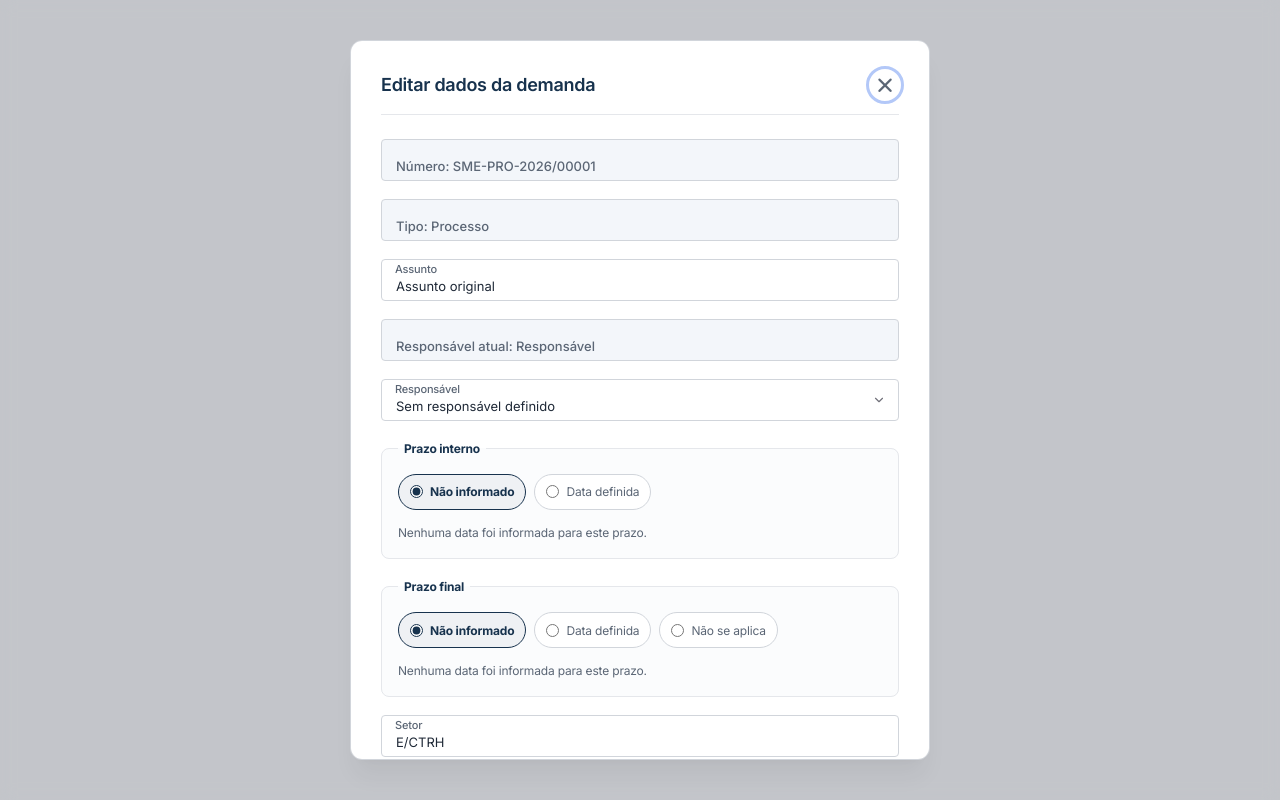
Scenario: validação de datas nos modais R4 › valida datas também na primeira adequação da edição legada
Click the radio button labelled "Data definida" in the row of "Não se aplica" at coordinates (553, 630), box [546, 624, 560, 637]
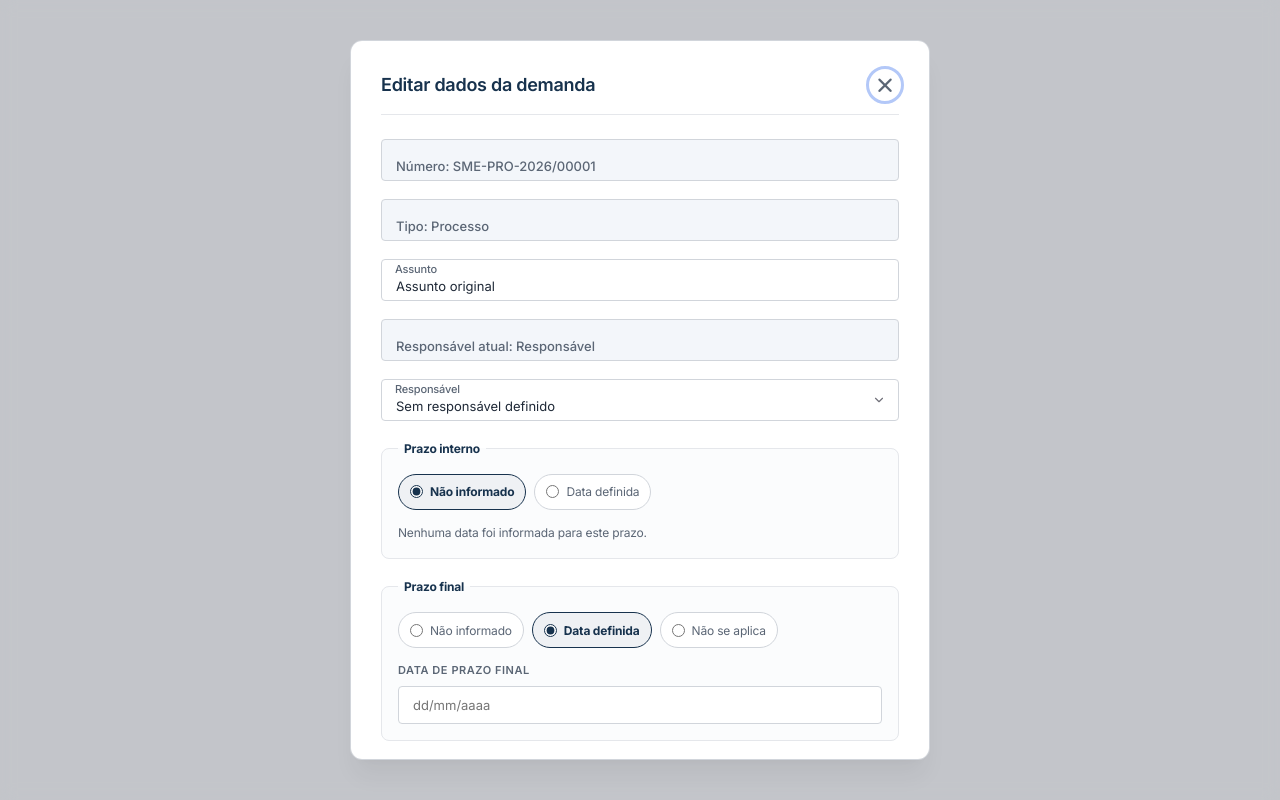
Type "31/04/2099" into the field labelled "Data de prazo final" at coordinates (640, 705), box [398, 686, 882, 724]
(page scrolled)
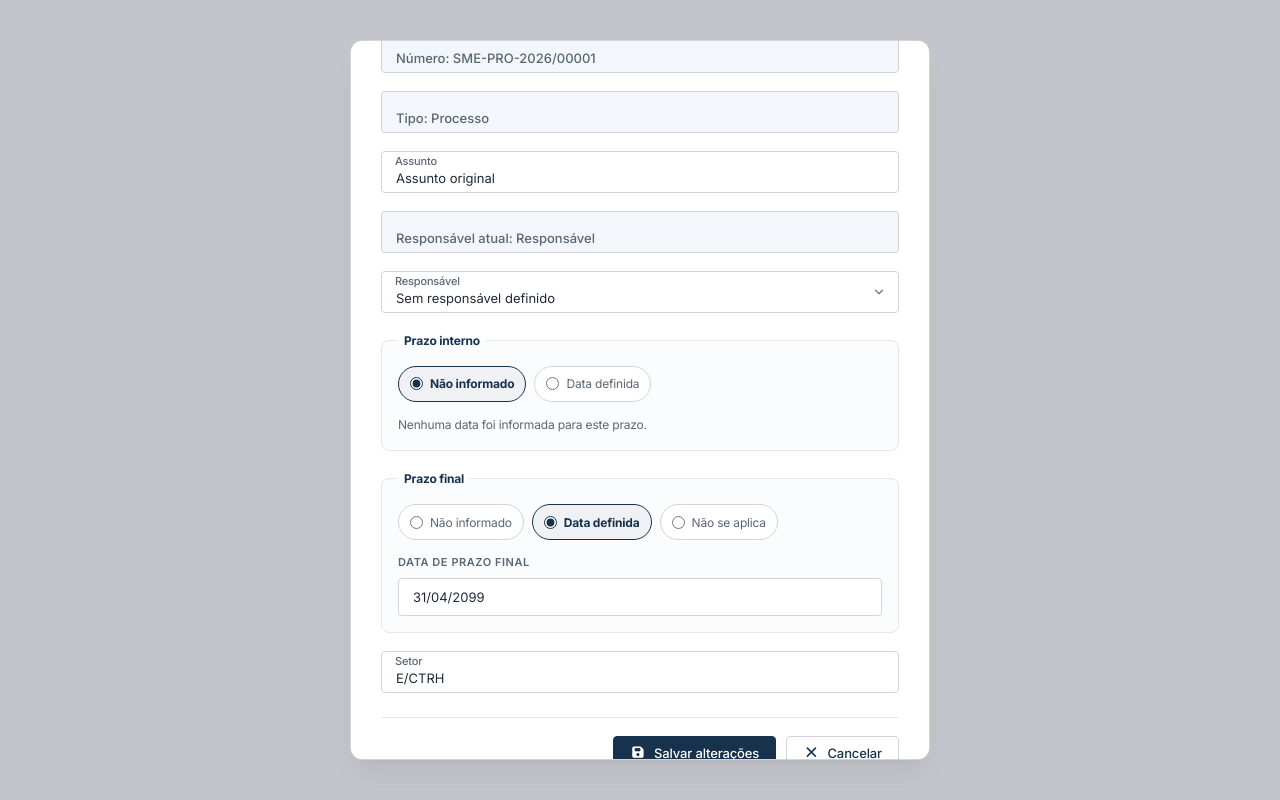
Submit the form named "salvar alterações", box [381, 31, 899, 770]
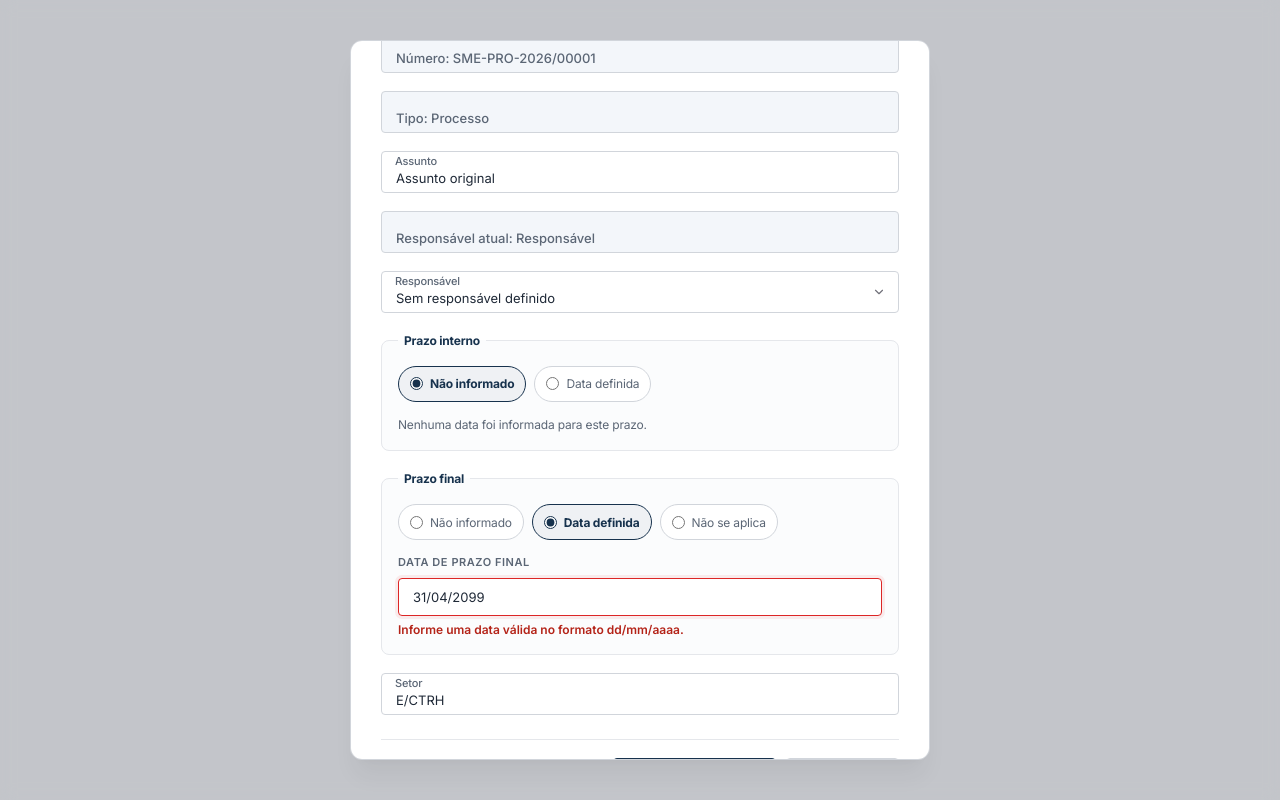
Expected: the text "Informe uma data válida no formato dd/mm/aaaa." is shown, [398, 622, 684, 637]
